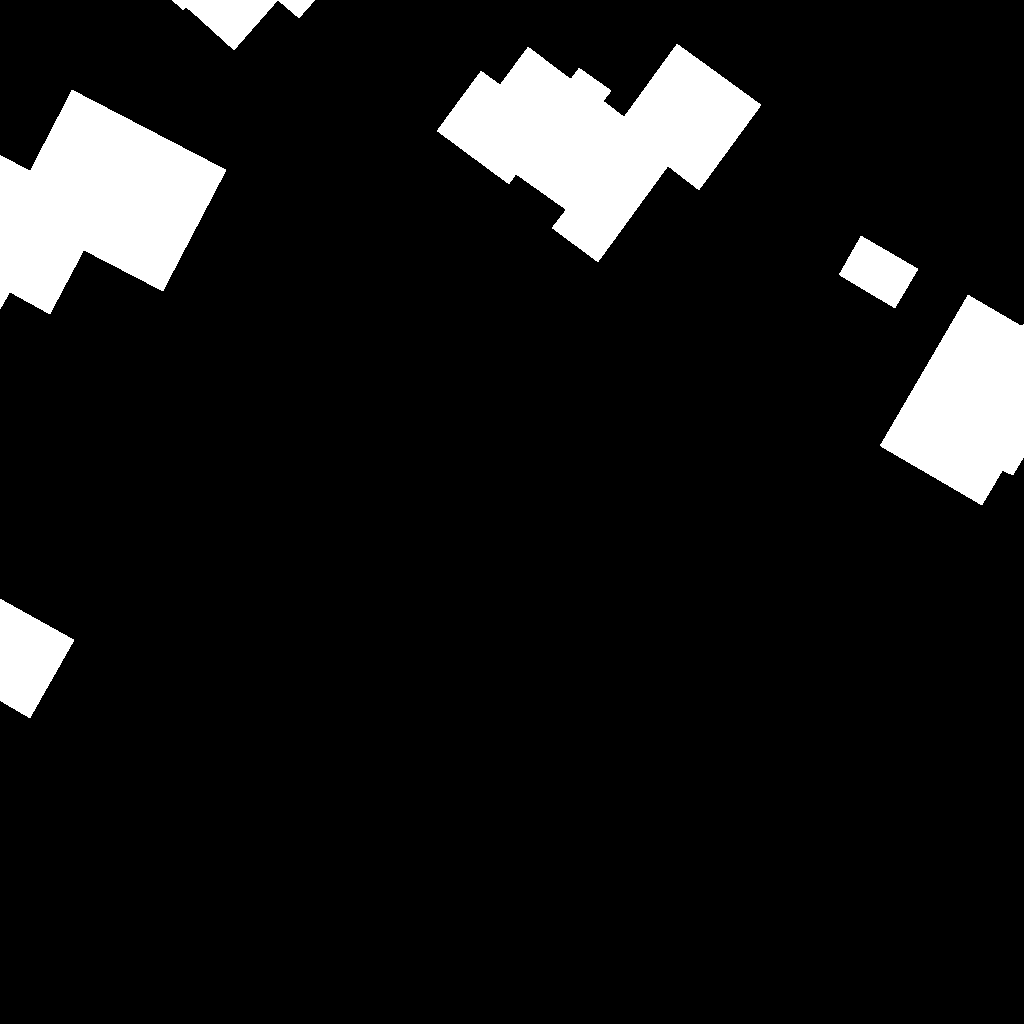building: (437, 44, 762, 263), (0, 90, 227, 315), (880, 295, 1024, 506), (0, 599, 75, 719), (172, 0, 316, 51), (839, 236, 919, 309)
